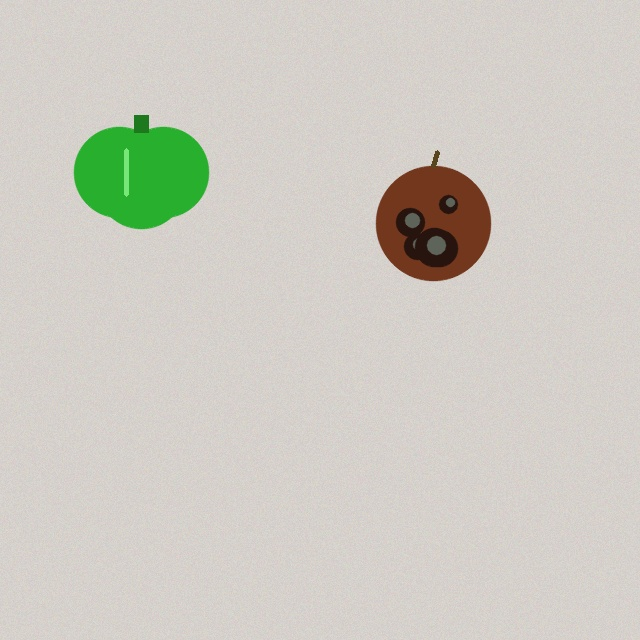Fresh bell pepper: (74, 115, 208, 228)
Rotten apple: (376, 152, 490, 280)
